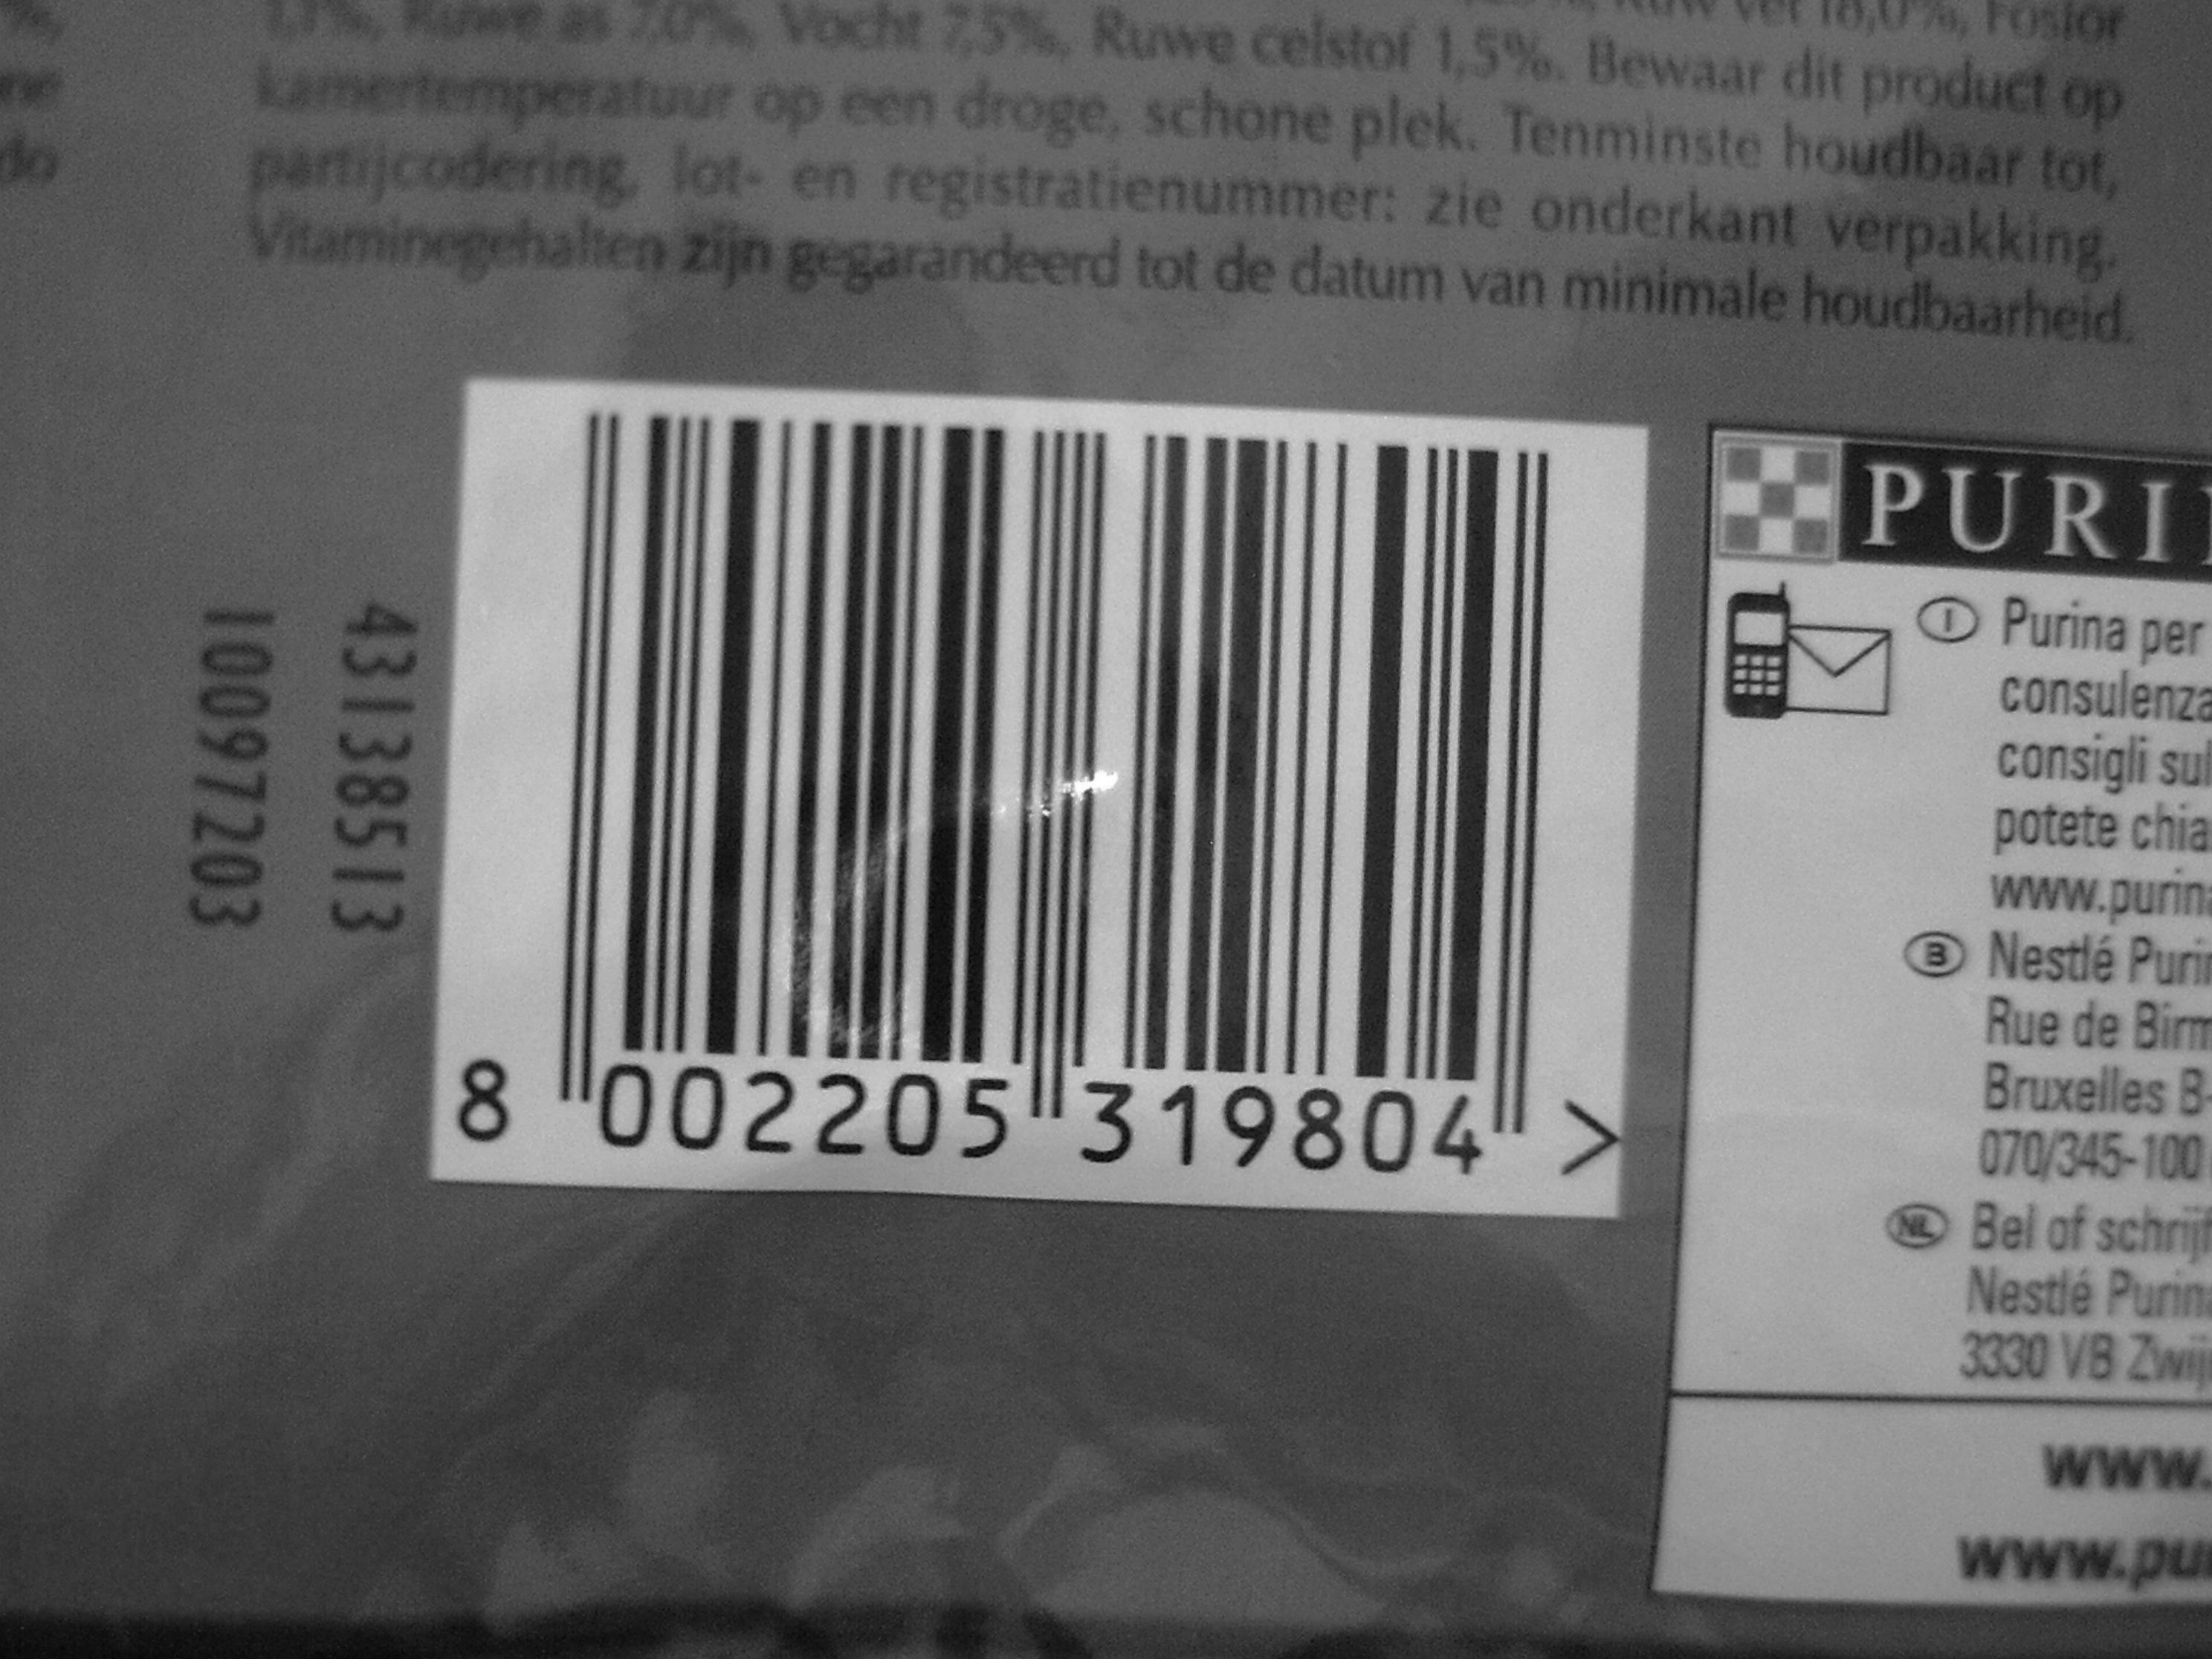Barcode: (533, 415, 1590, 1127)
